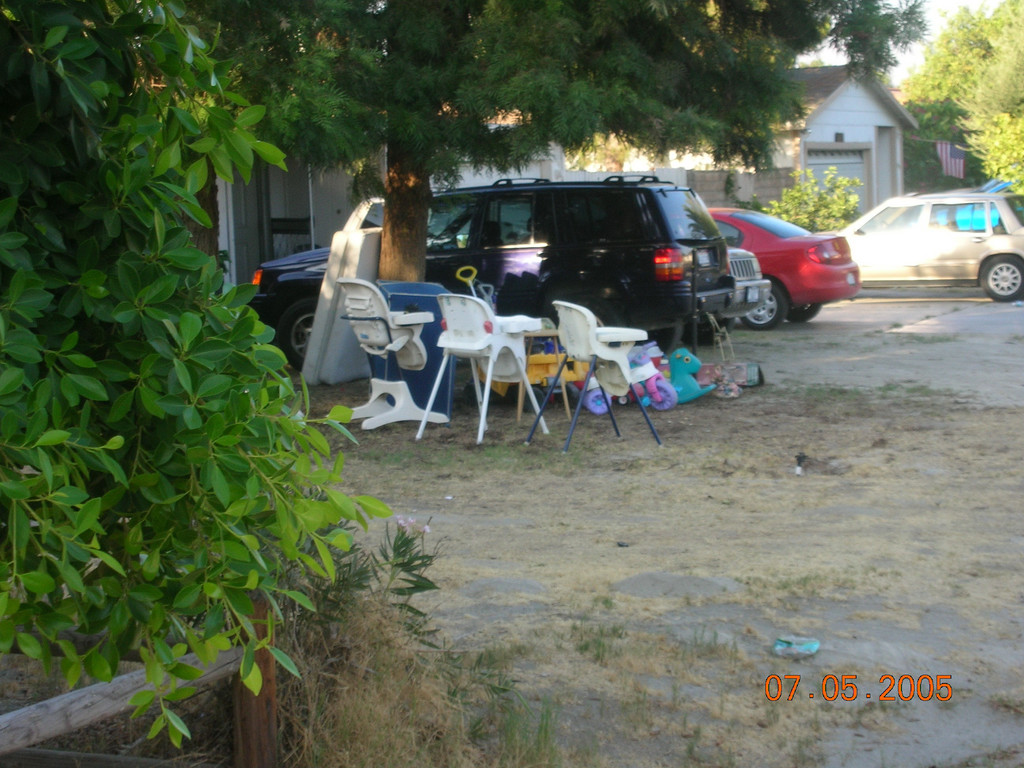Car: (707, 198, 864, 334)
